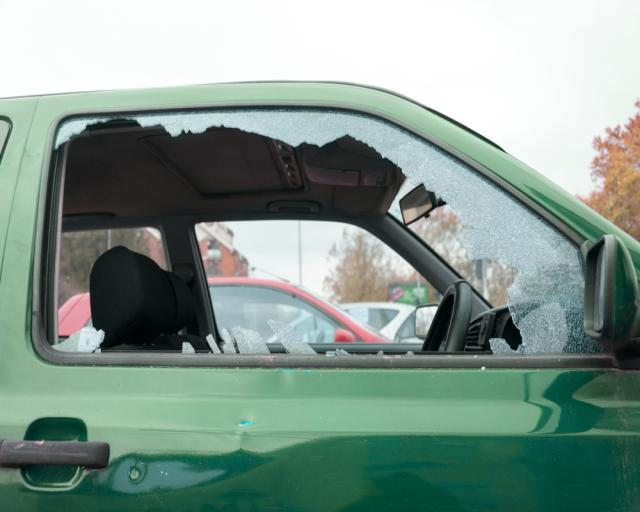glass shatter: (43, 109, 610, 355)
